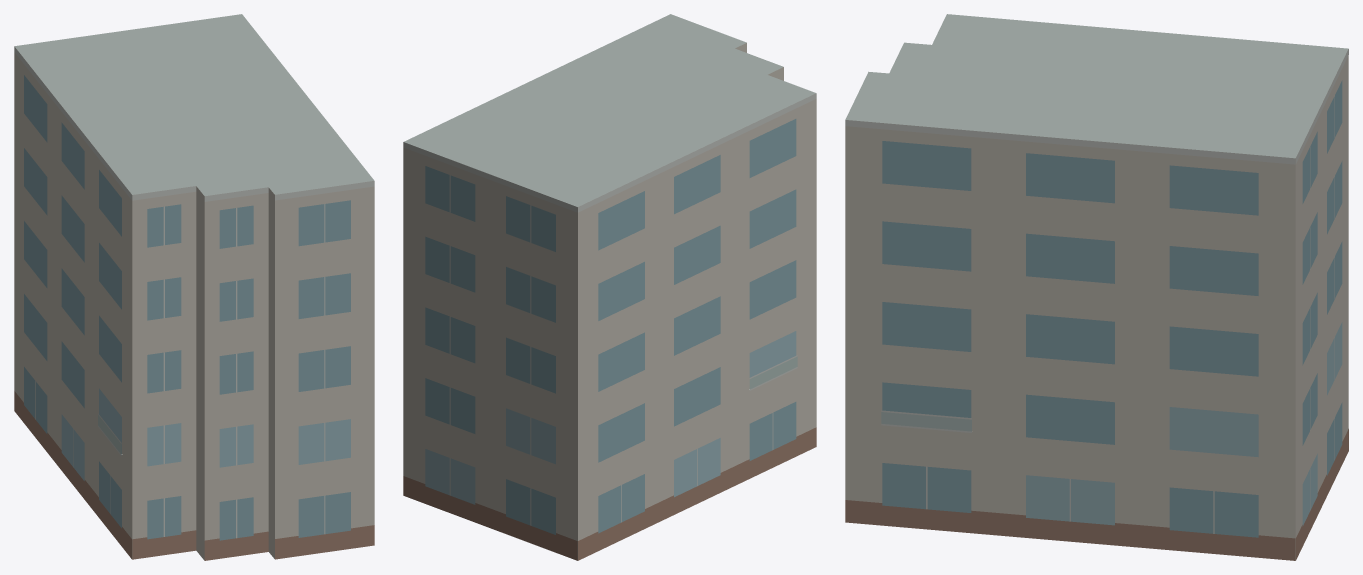
Rendered from survey-upis-32717346.glb.
3 renders of one model, left to right at view 1: azimuth 30°, elevation 25°; view 2: azimuth 150°, elevation 25°; view 3: azimuth 270°, elevation 25°, orthographic. The views are drawn at different scales.
Parts seen in each view (by area): view 1: survey-upis-32717346.tmp; view 2: survey-upis-32717346.tmp; view 3: survey-upis-32717346.tmp.
Part boxes in pixels (x1,y1,x2,y2): survey-upis-32717346.tmp: [14, 14, 374, 560]; survey-upis-32717346.tmp: [403, 14, 816, 560]; survey-upis-32717346.tmp: [845, 14, 1348, 560].
Size of the model in its own units: 12 by 15.6 by 17.69.
